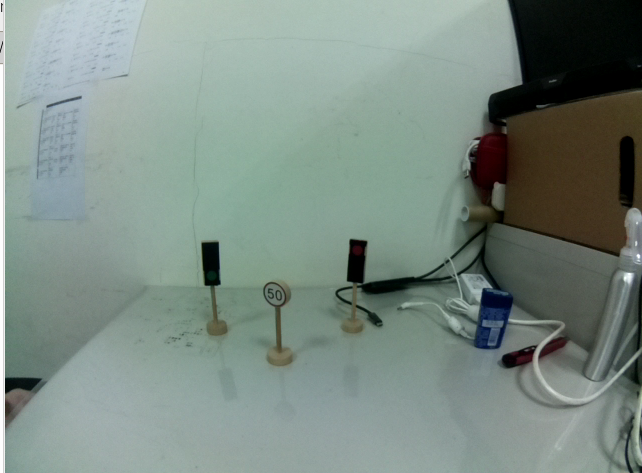Green: (198, 238, 226, 291)
Red: (344, 236, 369, 290)
Speed50: (262, 278, 292, 308)
